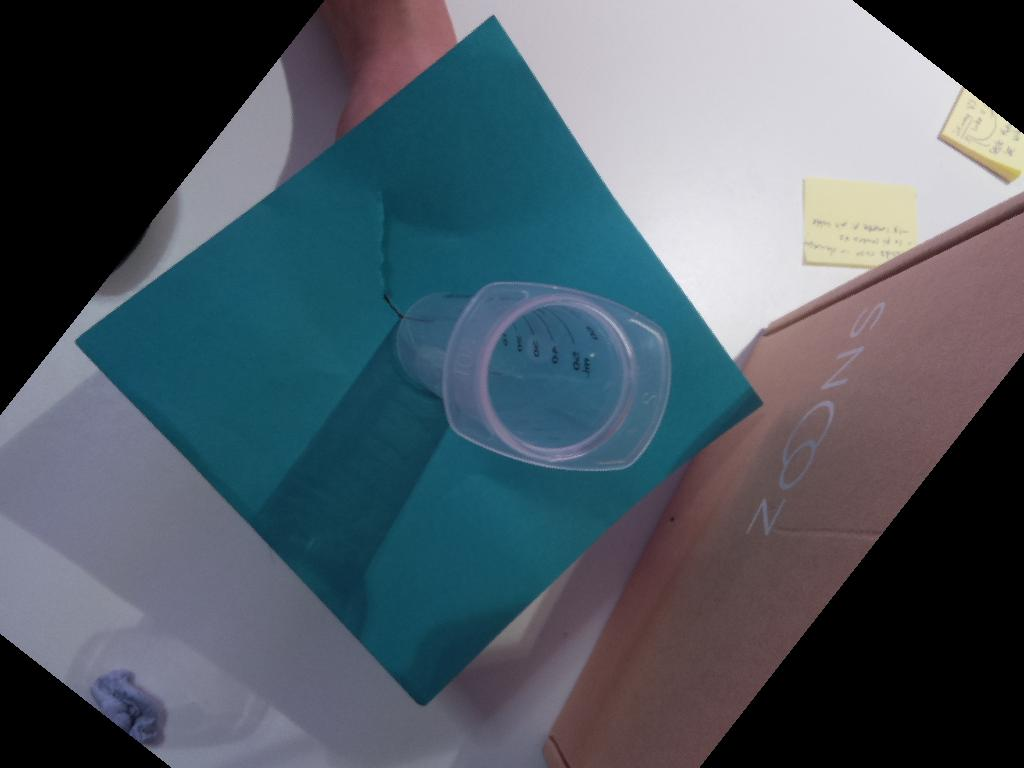clean: (440, 280, 674, 473)
